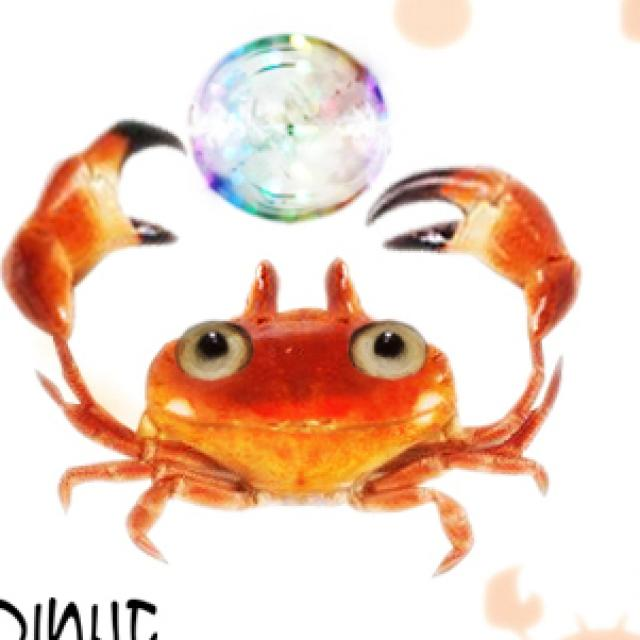Krabby: (48, 160, 584, 524)
